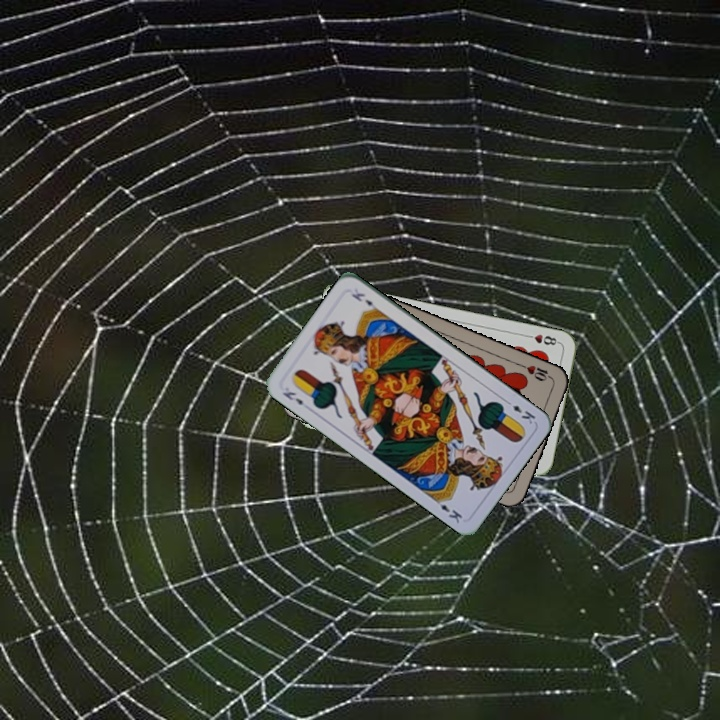EK: (501, 396, 538, 427), (279, 387, 305, 408)
H10: (516, 360, 555, 384)
H8: (521, 330, 562, 348)
